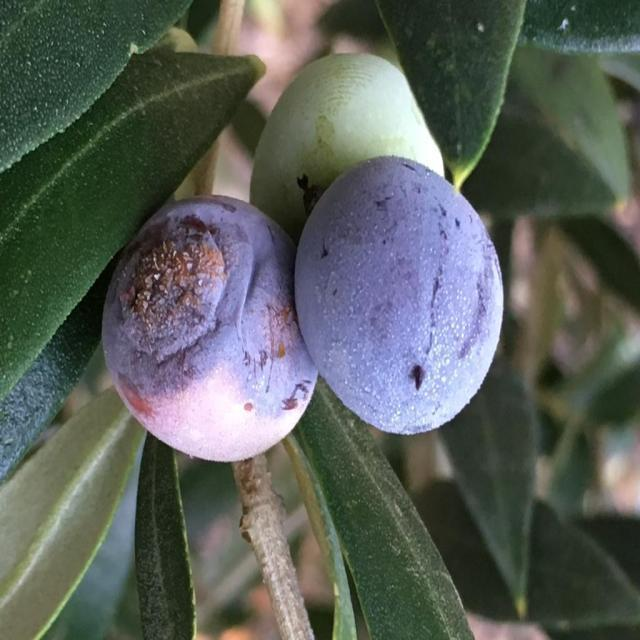Anthracnose: (102, 196, 316, 462)
